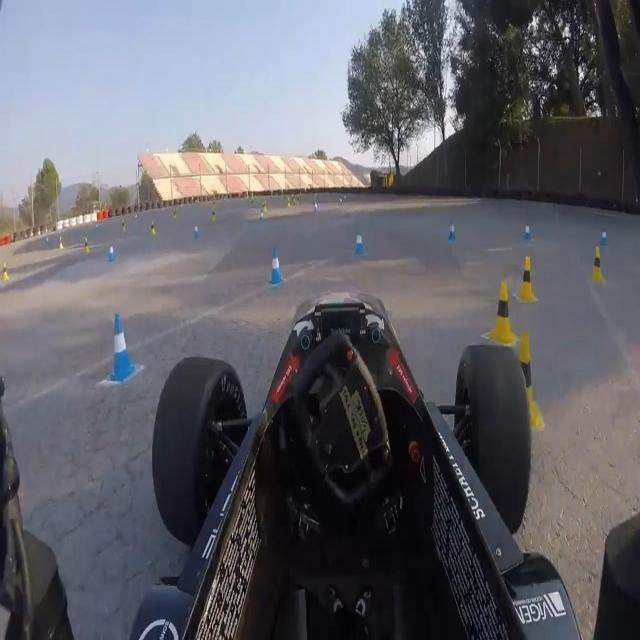blue_cone: (103, 308, 141, 392), (349, 214, 373, 273), (263, 243, 289, 292), (446, 208, 459, 251), (523, 217, 534, 237)
yellow_cone: (512, 332, 554, 432), (492, 268, 517, 352), (521, 243, 538, 305), (588, 239, 608, 287)
